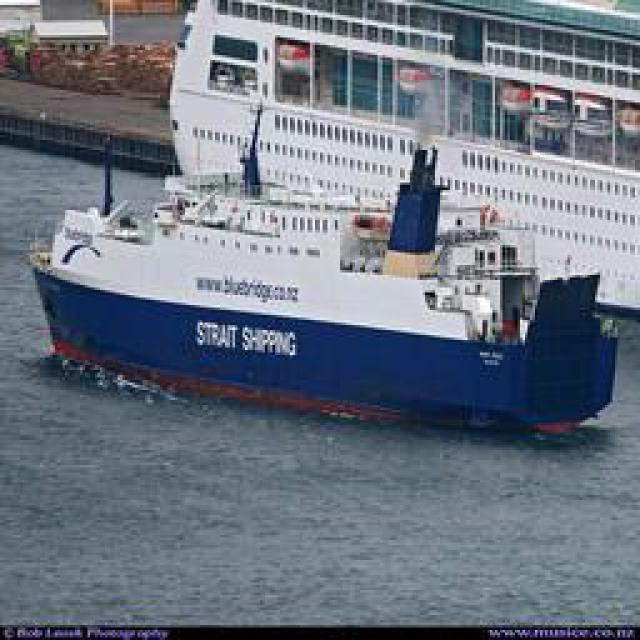Ship: (21, 6, 626, 439)
